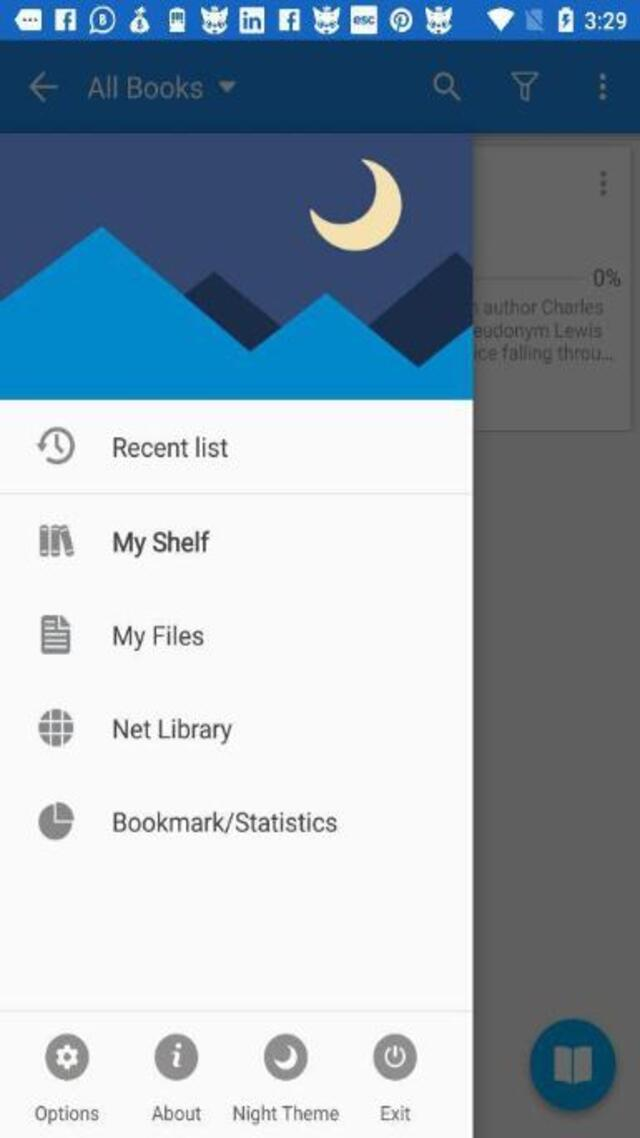Icon: (44, 1032, 89, 1080), (154, 1032, 198, 1080), (264, 1032, 308, 1080), (372, 1032, 416, 1080), (36, 425, 76, 464), (38, 802, 76, 841), (38, 708, 75, 747), (41, 612, 72, 654), (38, 524, 76, 558), (28, 70, 58, 104), (432, 71, 462, 103), (218, 80, 238, 94), (598, 72, 606, 102)
Image: (0, 132, 472, 398), (508, 72, 538, 102)
Text: (114, 810, 338, 833), (85, 72, 204, 102), (112, 717, 234, 745), (110, 434, 228, 459), (112, 530, 210, 558), (112, 623, 204, 650), (233, 1102, 339, 1124), (34, 1103, 99, 1123), (151, 1104, 201, 1120), (380, 1104, 410, 1120)
